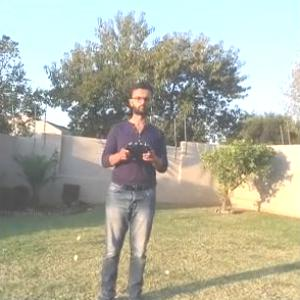follow: (98, 75, 179, 299)
